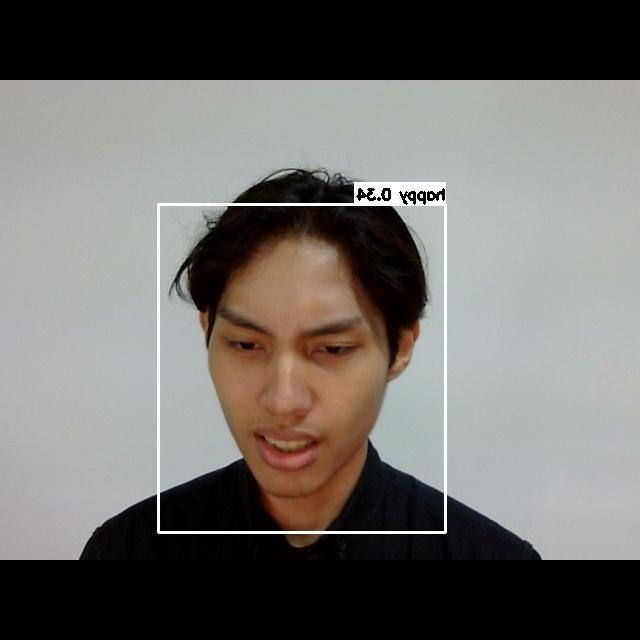Fear: (201, 283, 389, 503)
